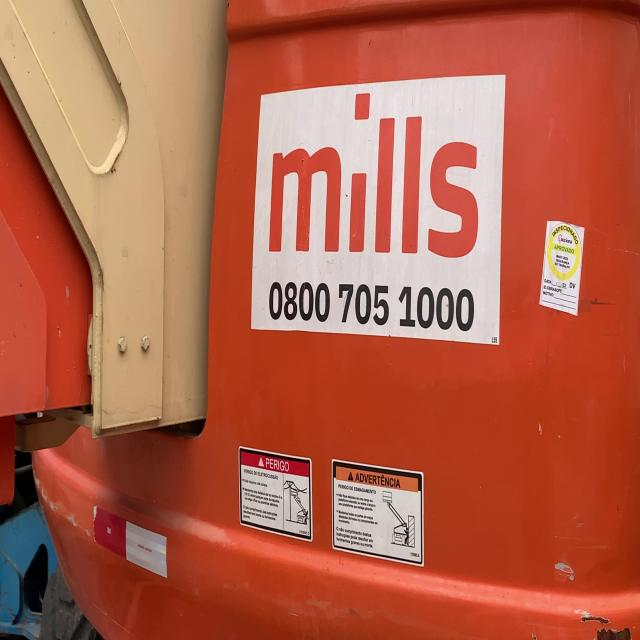Adesivos: (246, 68, 507, 350)
